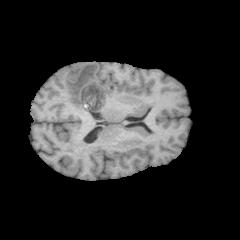glioma: (65, 63, 111, 111)
